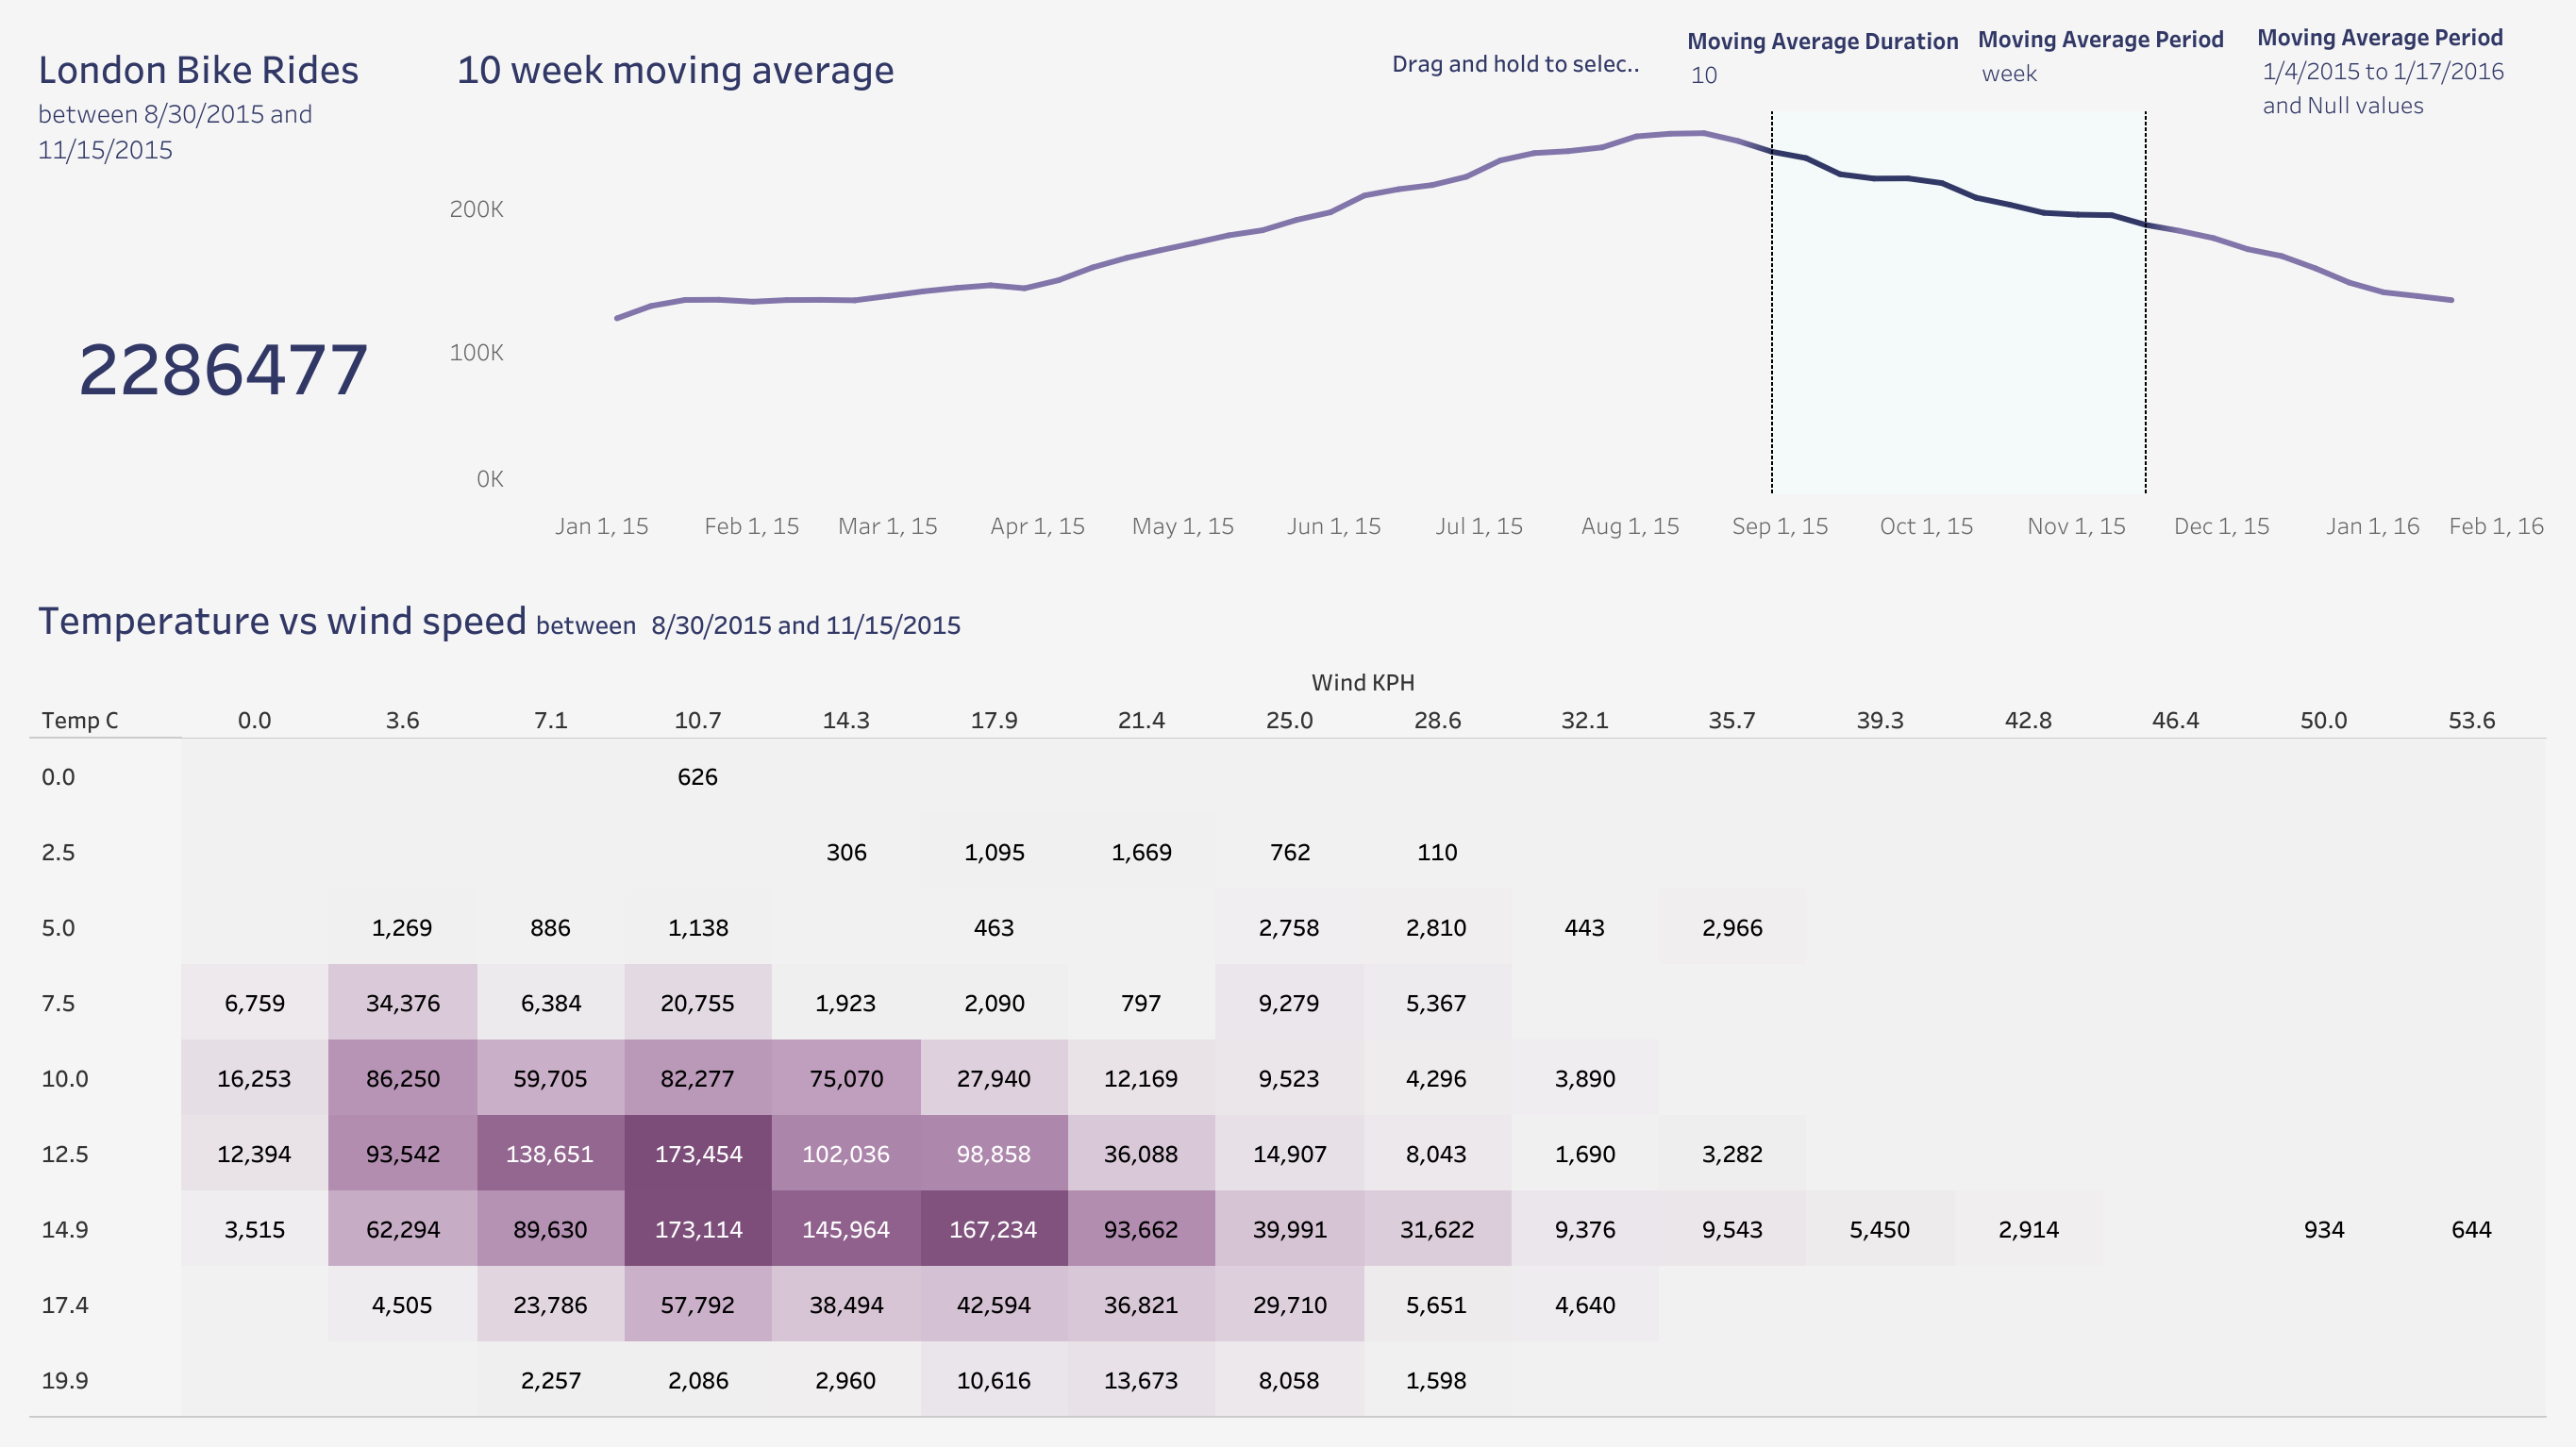

The page's visual inventory and layout, read from the dashboard file:
{"tool":"tableau","page":{"name":"Dashboard 1","canvas":[1366,768],"ordinal":0},"visuals":[{"type":"worksheet","title":"TotalRides","mark":"Automatic","box":[8,8,222,292]},{"type":"worksheet","title":"MovingAverage","mark":"Automatic","rows":["Calculation1"],"cols":["Calculation_148126229653204993"],"box":[230,8,1128,292]},{"type":"filter","title":"MovingAverage","param":"[federated.1ejsnx80kj4yts157fpey1y7q9qy].[none:Calculation_148126229653204993:qk","box":[1196,9,136,63]},{"type":"parameter","param":"[Parameters].[Parameter 1]","box":[1048,10,137,44]},{"type":"parameter","param":"[Parameters].[Parameter 2]","box":[894,11,146,44]},{"type":"text","box":[735,16,137,34]},{"type":"worksheet","title":"Heatmap","mark":"Square","rows":["temp real C (bin)"],"cols":["Wind Speed Kph (bin)"],"box":[8,300,1350,460]}]}

Visuals, with their boxes in screenshot pixels (x1, y1, x2, y2), scaled from the page's 1366x768 canvas onto the 2576x1447 screenshot:
"TotalRides" worksheet: <region>15, 15, 434, 565</region>
"MovingAverage" worksheet: <region>434, 15, 2561, 565</region>
"MovingAverage" filter: <region>2255, 17, 2512, 136</region>
parameter: <region>1976, 19, 2234, 102</region>
parameter: <region>1686, 21, 1961, 104</region>
text: <region>1386, 30, 1645, 94</region>
"Heatmap" worksheet (Square marks): <region>15, 565, 2561, 1432</region>
